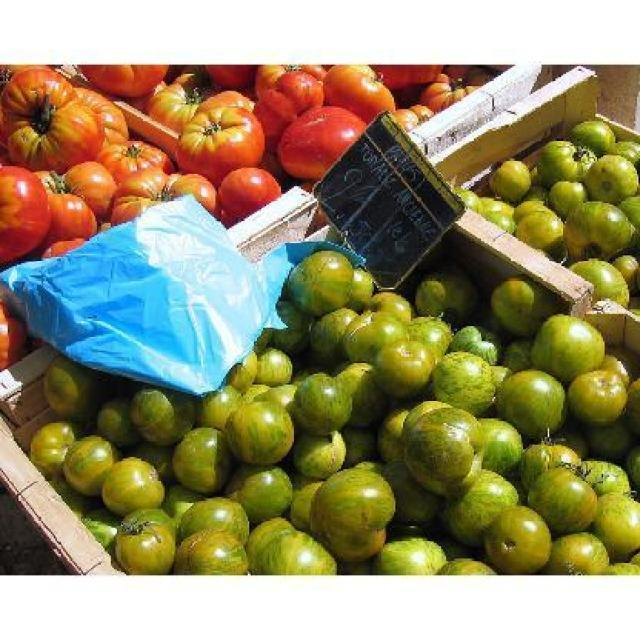Tomato: (26, 246, 639, 572), (0, 63, 486, 371), (450, 112, 639, 318), (267, 99, 367, 172)
